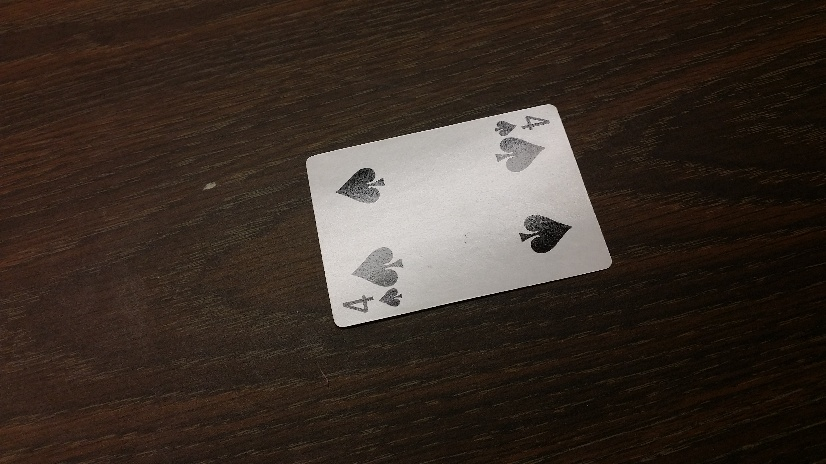S4: (336, 288, 404, 314), (494, 114, 550, 141)
